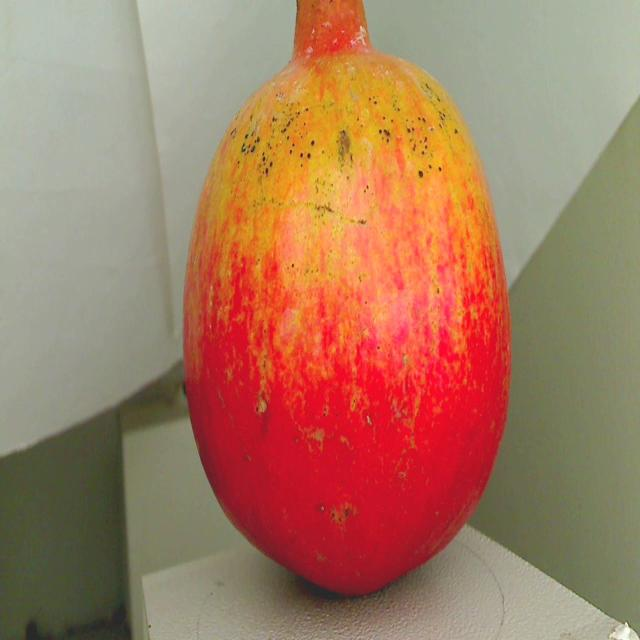pomegranate: (165, 0, 523, 601)
